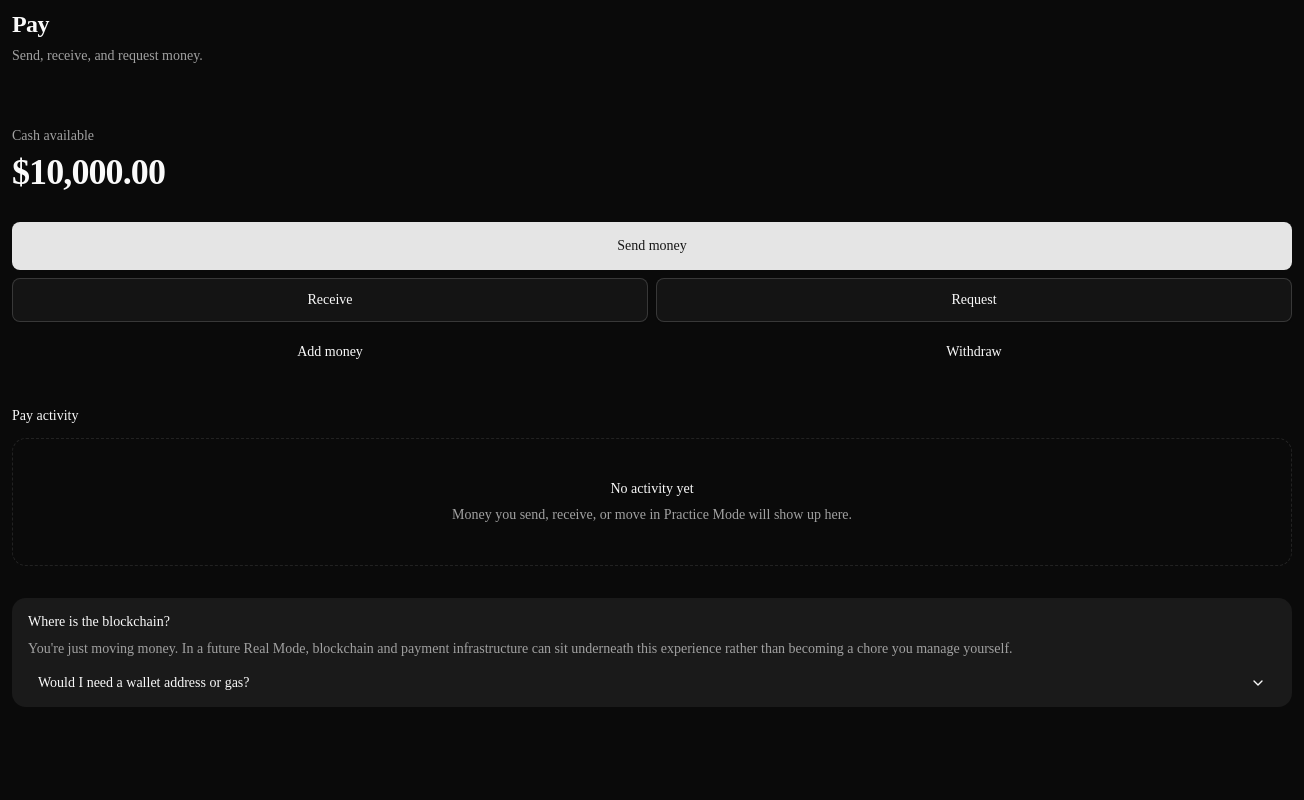
Test: PayView › refuses to withdraw more Cash than is available
Click the button "Withdraw" at (974, 352), box [656, 330, 1292, 374]
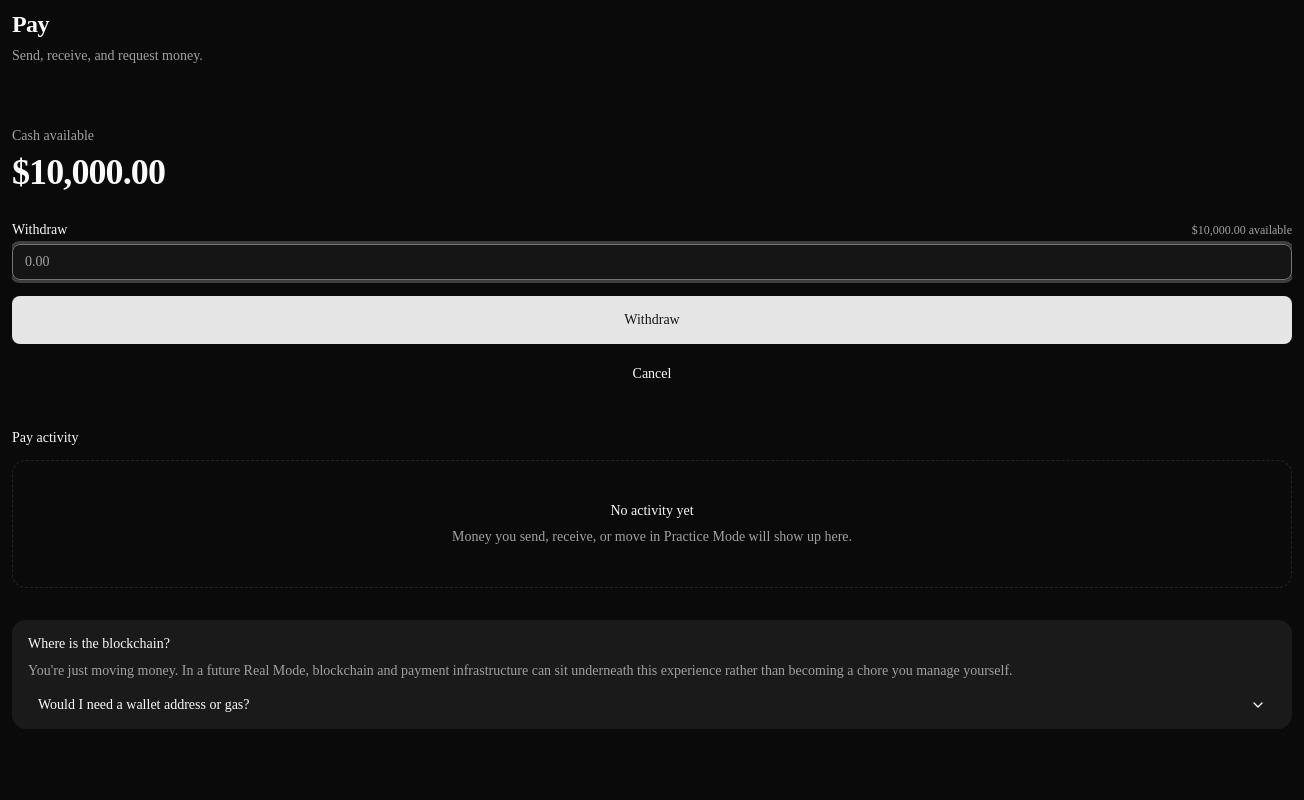
Type "50000" into the field labelled "Withdraw" at (652, 262), box [12, 244, 1292, 280]
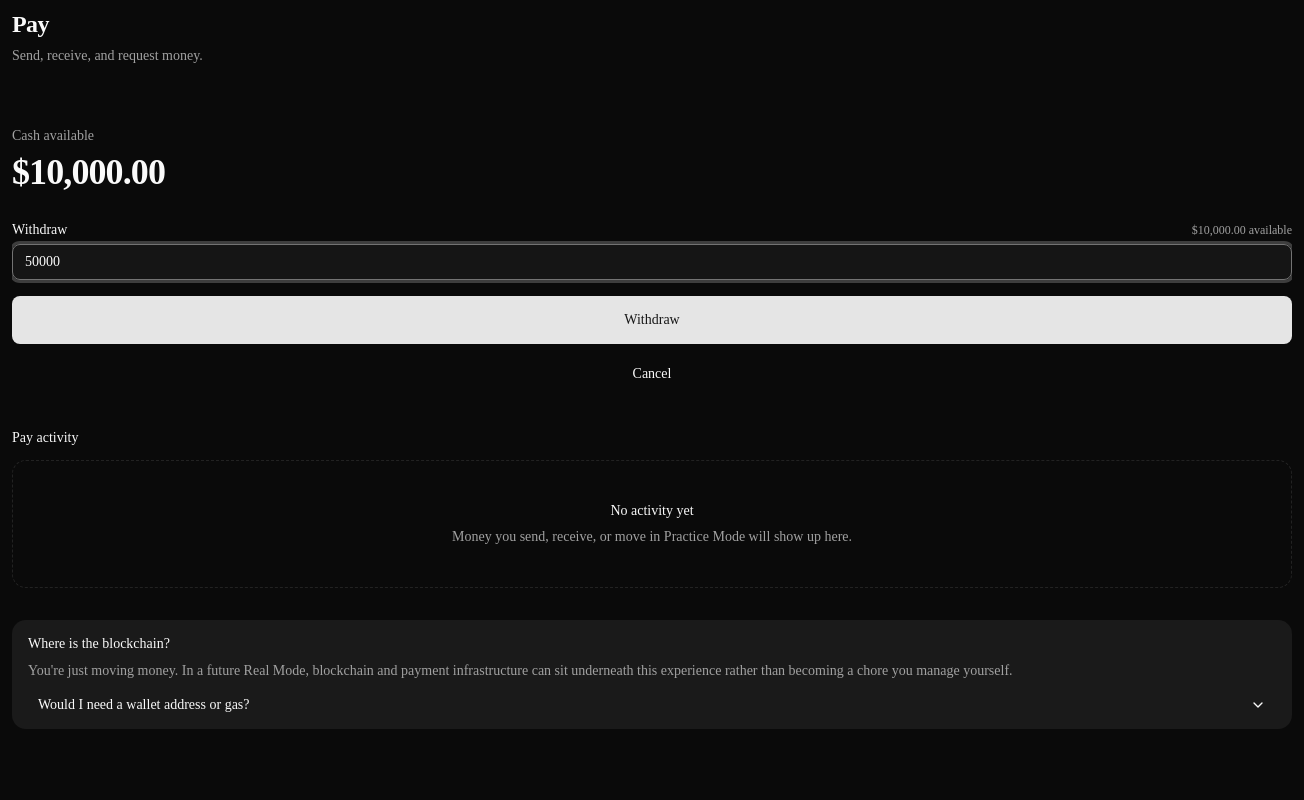
Click the button "Withdraw" at (652, 320), box [12, 296, 1292, 344]
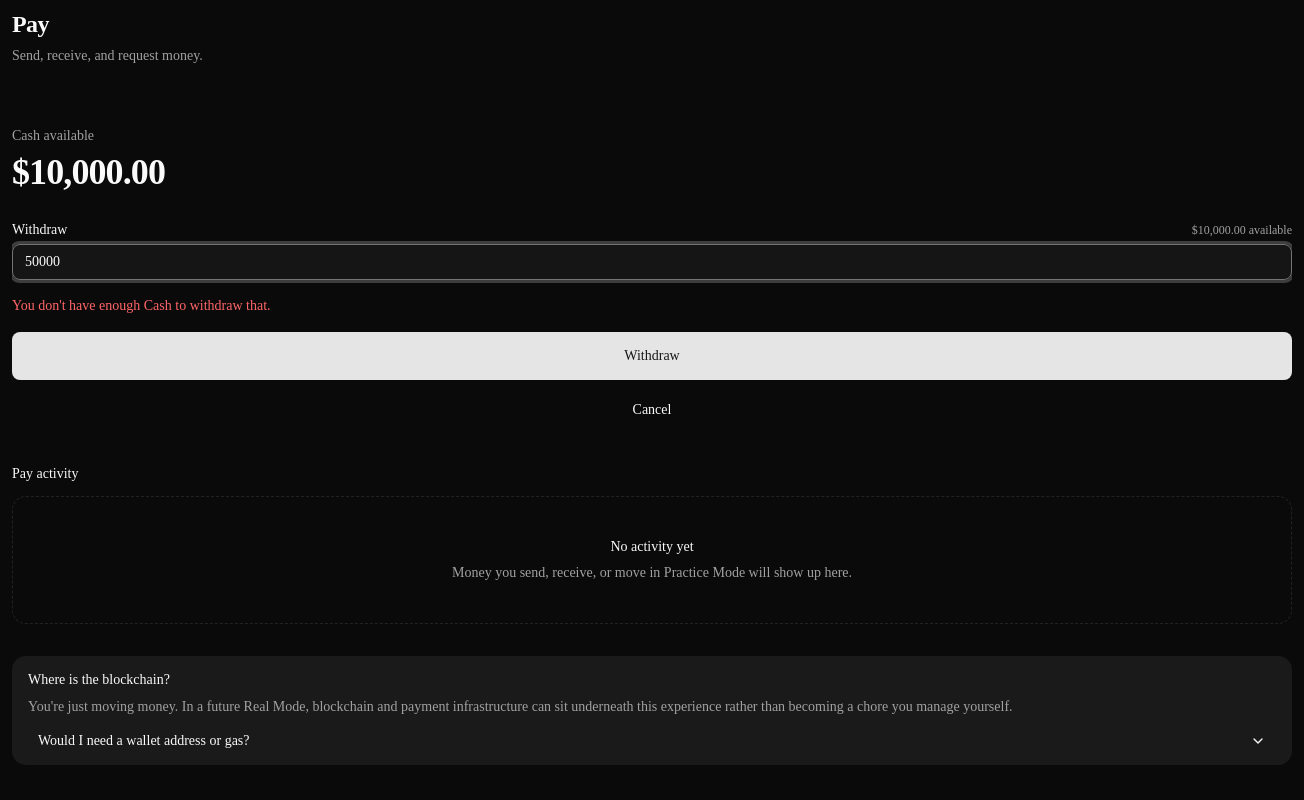
Check: the text with test id "pay-cash-headline" reads "$10,000.00", box [12, 152, 165, 192]
Check: the text "You don't have enough Cash to withdraw that." is shown, box [12, 298, 270, 313]
